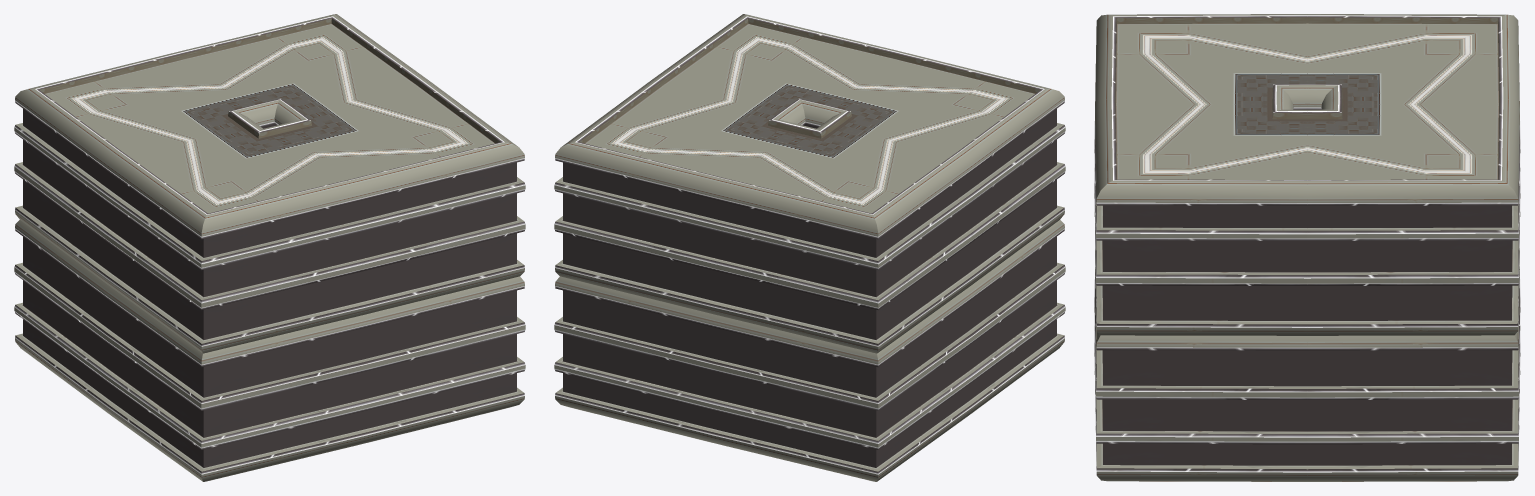
File: KF_SM_XBuilding015.fbx
3 renders of one model, left to right at view 1: azimuth 30°, elevation 25°; view 2: azimuth 150°, elevation 25°; view 3: azimuth 270°, elevation 25°, orthographic. The views are drawn at different scales.
Parts seen in each view (by area): view 1: KF_SM_XBuilding015; view 2: KF_SM_XBuilding015; view 3: KF_SM_XBuilding015.
Part boxes in pixels (x1=…): KF_SM_XBuilding015: x1=14, y1=14, x2=525, y2=481; KF_SM_XBuilding015: x1=554, y1=14, x2=1065, y2=481; KF_SM_XBuilding015: x1=1094, y1=14, x2=1520, y2=481.
Bounding box in the file's own units: 9559 × 7420 × 9559.
